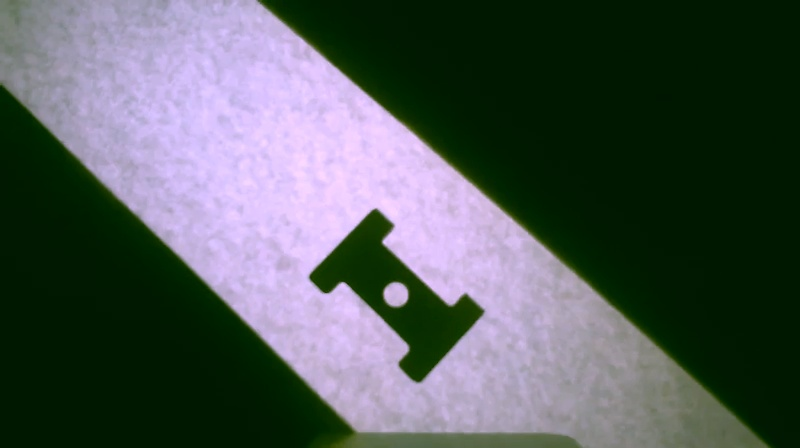O002: (303, 206, 487, 385)
